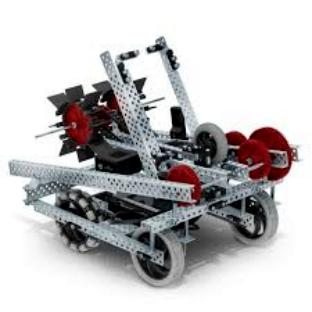Robot: (8, 36, 298, 286)
